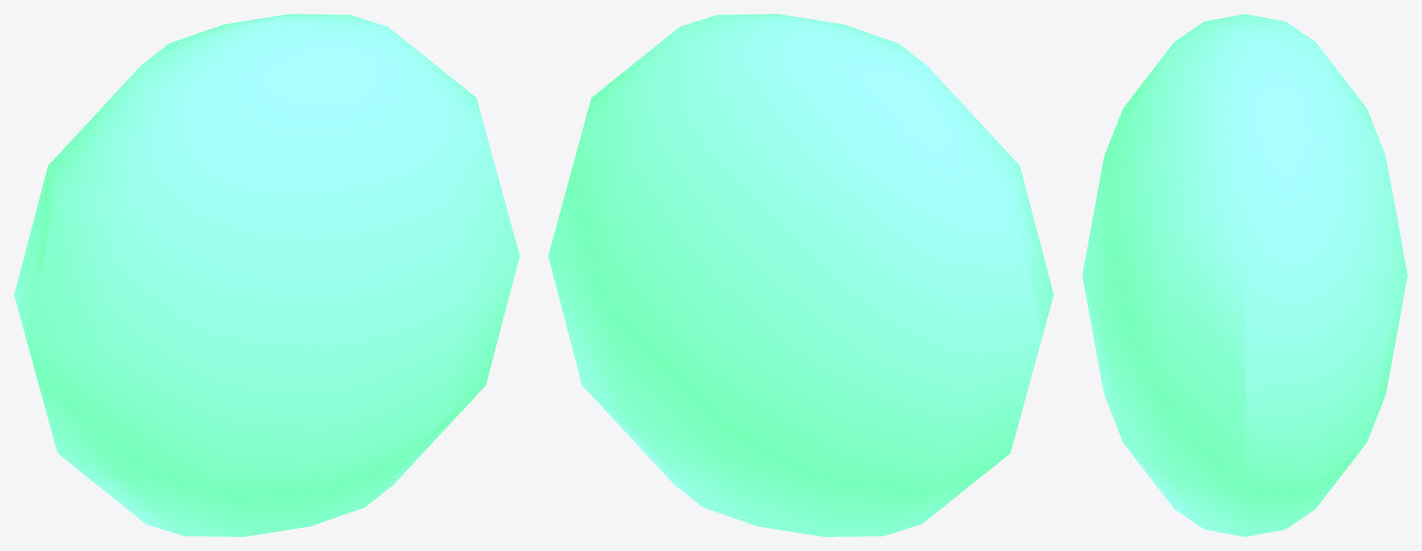
File: WorkerHand_BoardLedGreen.fbx
The picture shows the model from 3 angles, left to right: view 1: azimuth 30°, elevation 25°; view 2: azimuth 150°, elevation 25°; view 3: azimuth 270°, elevation 25°; orthographic projection. The views are drawn at different scales.
Parts seen in each view (by area): view 1: Hand_BoardLedGreen; view 2: Hand_BoardLedGreen; view 3: Hand_BoardLedGreen.
Boxes of the visible parts, x1,y1,x2,y2 form: Hand_BoardLedGreen: (14, 14, 519, 536); Hand_BoardLedGreen: (548, 14, 1053, 536); Hand_BoardLedGreen: (1082, 14, 1407, 536).
Bounding box in the file's own units: 0.0038 × 0.0038 × 0.00236.
